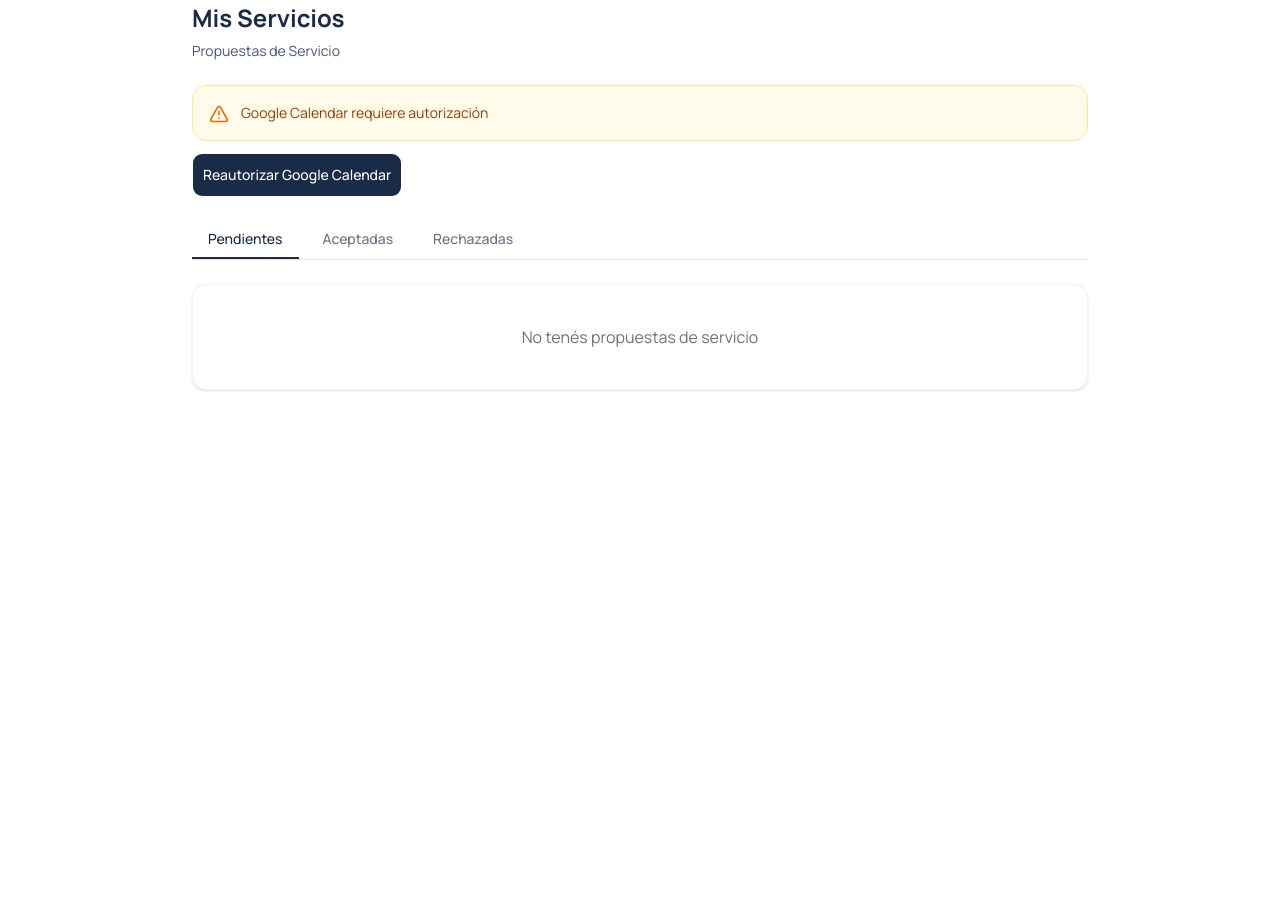
Test: ProposalHistoryView › offers reauthorization in list and order detail with one account lookup ($0)
Expected: the button "Reautorizar Google Calendar" is enabled, [192,153,402,197]
Expected: the message reads "Google Calendar requiere autorización", [241,103,488,122]
Click the tab "Aceptadas" at coordinates (358, 240), box [307,221,409,259]
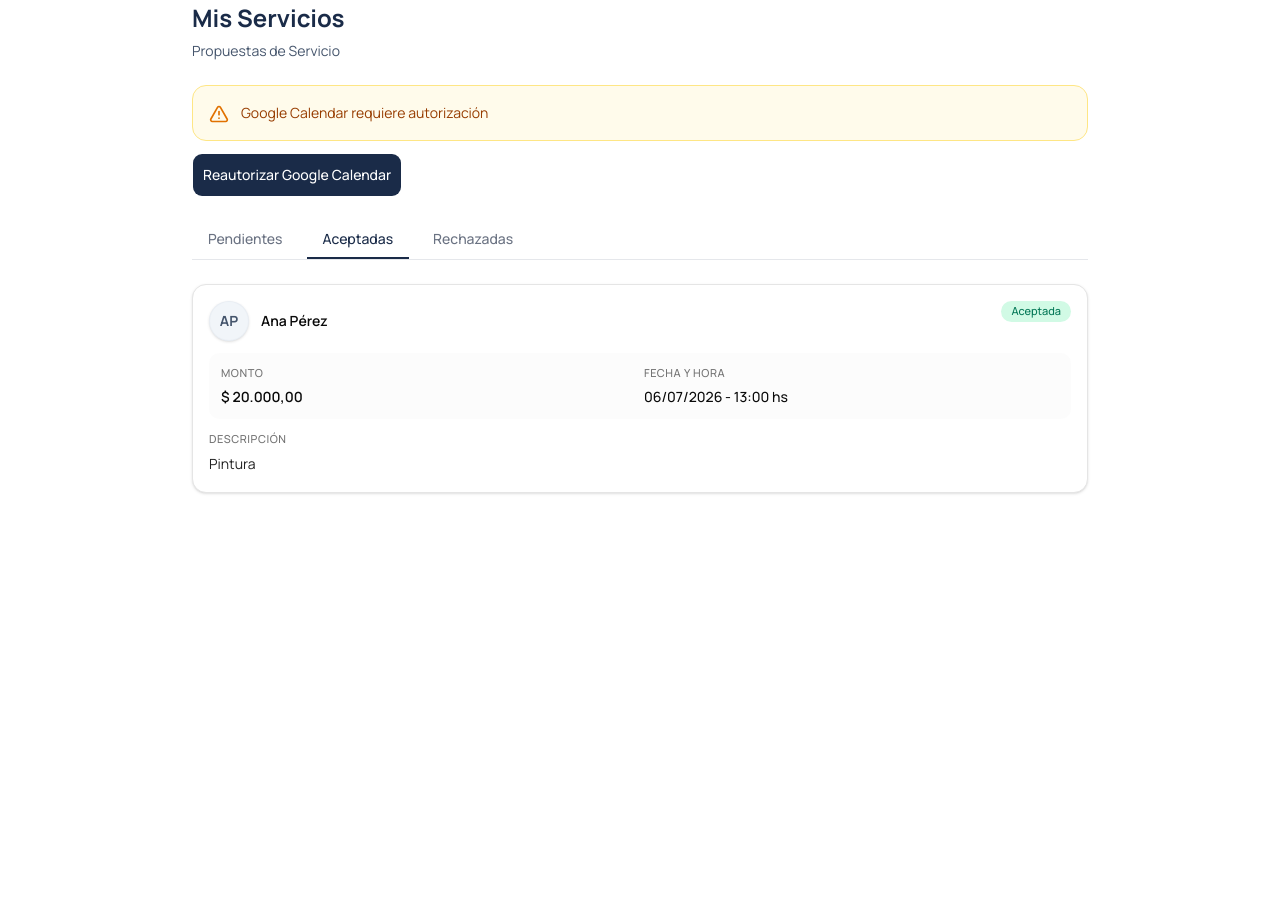
Click the button with test id "proposal-card" at coordinates (640, 388), box [192,284,1088,493]
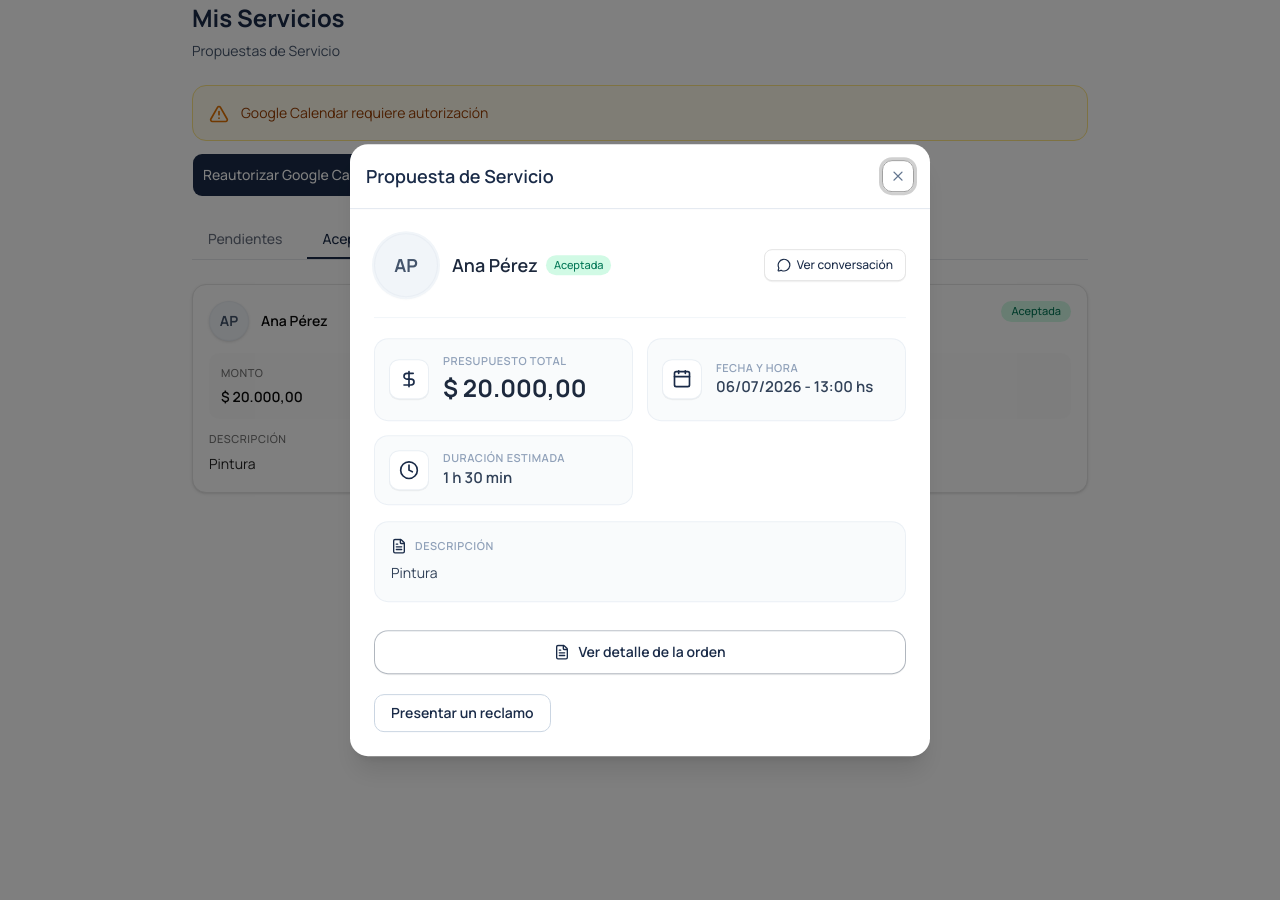
Click the button "Ver detalle de la orden" at coordinates (640, 652), box [374,630,906,674]
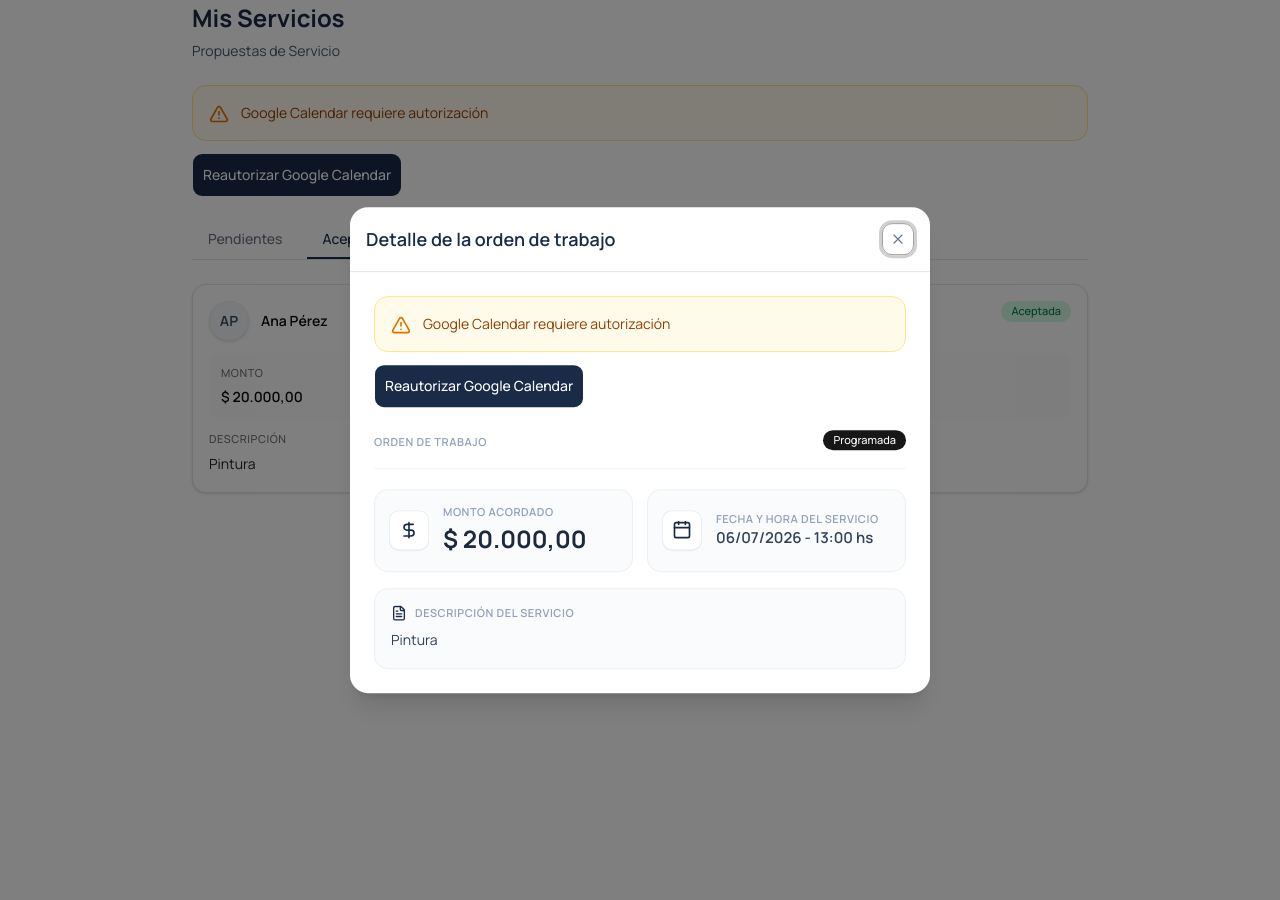
Now the message reads "Google Calendar requiere autorización", box [423,314,670,333]
Now the button "Reautorizar Google Calendar" is enabled, box [374,364,584,408]
